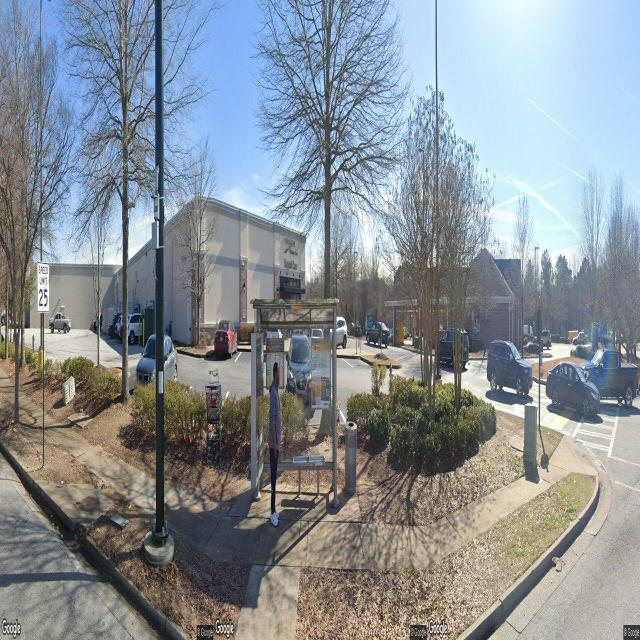seating: (292, 454, 326, 500)
shelter: (249, 296, 339, 516)
trash_can: (344, 422, 358, 498)
